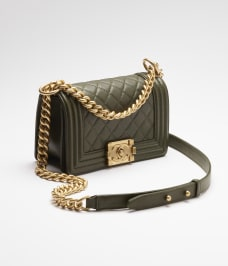channel: (32, 72, 220, 214), (32, 77, 60, 200), (64, 78, 112, 123), (106, 136, 141, 163)
